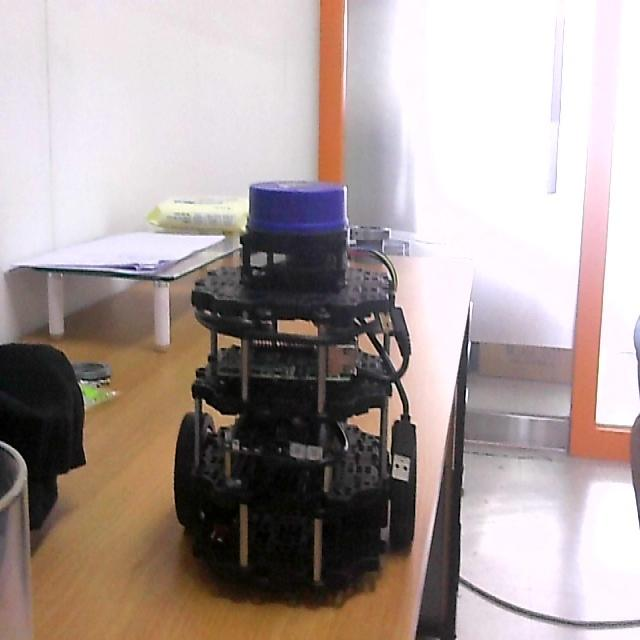turtle: (172, 176, 418, 609)
